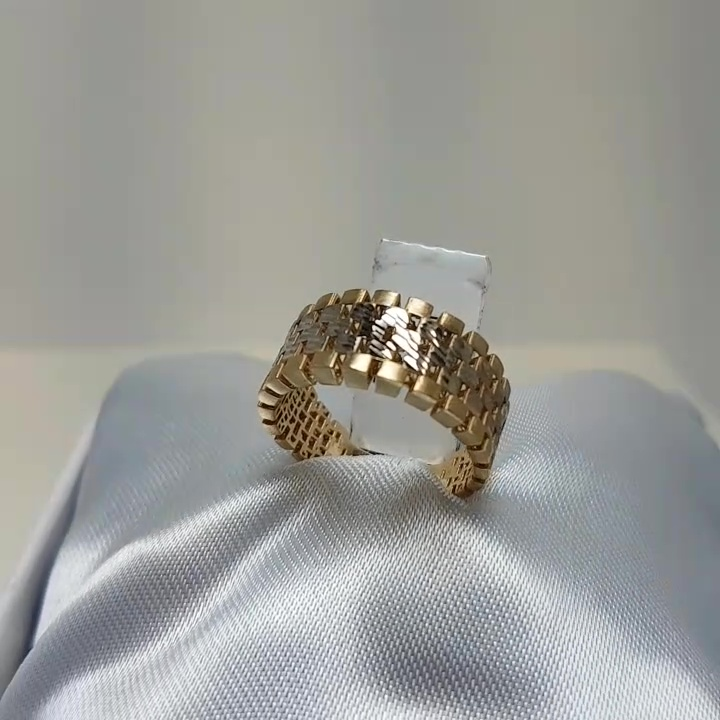Ring 1: (230, 278, 527, 509)
